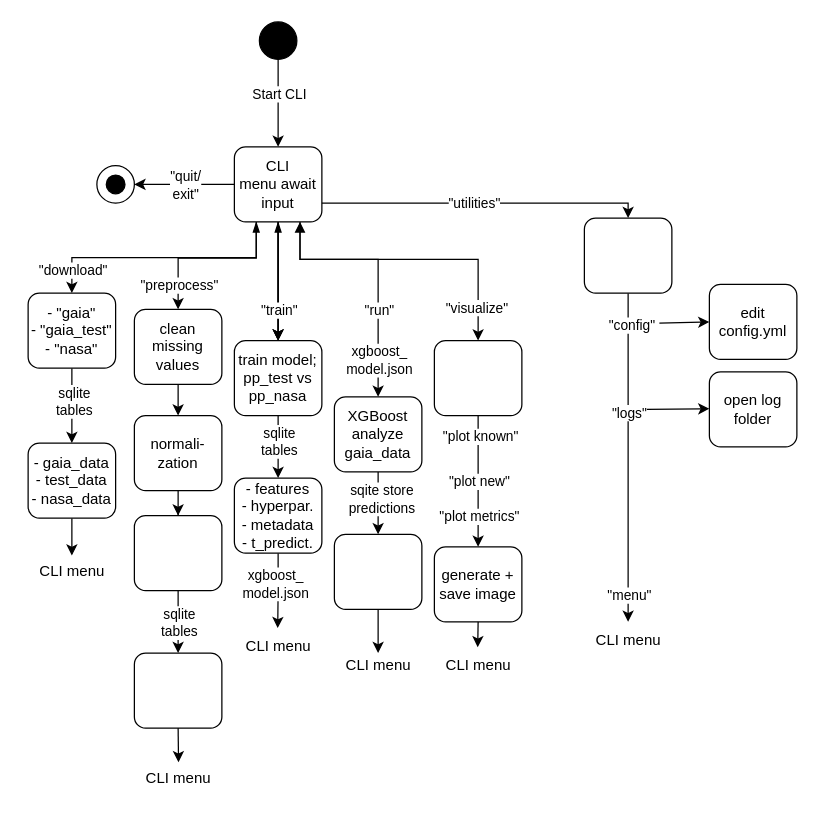
The diagram is 819 pixels wide and 819 high, and some of its shapes have lost their labels. Here are the shapes that lost their labels. From the top down, the centre of each, then its label:
At pixel 627 255: "await input".
At pixel 477 377: "matplotlib + sqlite".
At pixel 177 552: "feature engineering".
At pixel 377 571: "- hyperpar. - predictions -metadata".
At pixel 177 690: "- pp_gaia - pp_test - pp_nasa".
